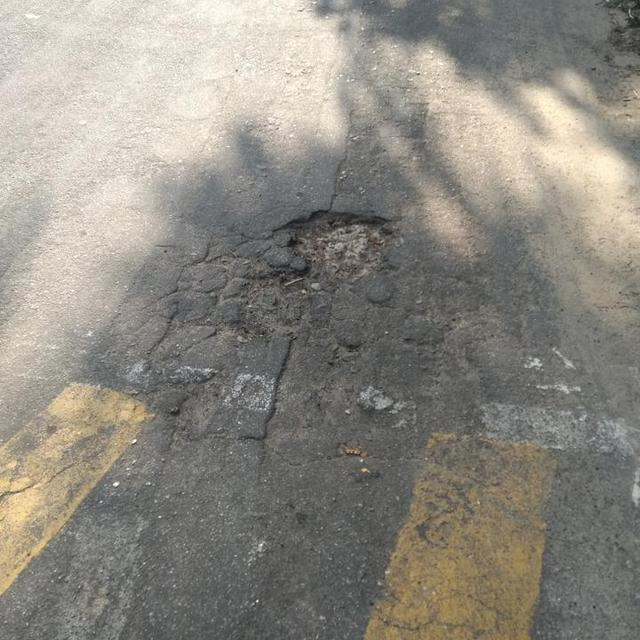Pothole: (272, 207, 406, 288), (234, 265, 322, 339), (168, 375, 228, 446)
